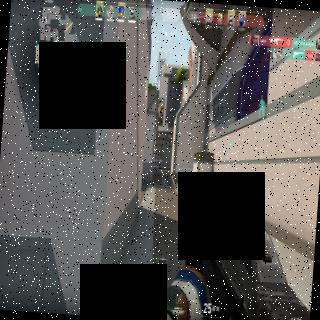ENEMY-BODY: (158, 158, 162, 170)
